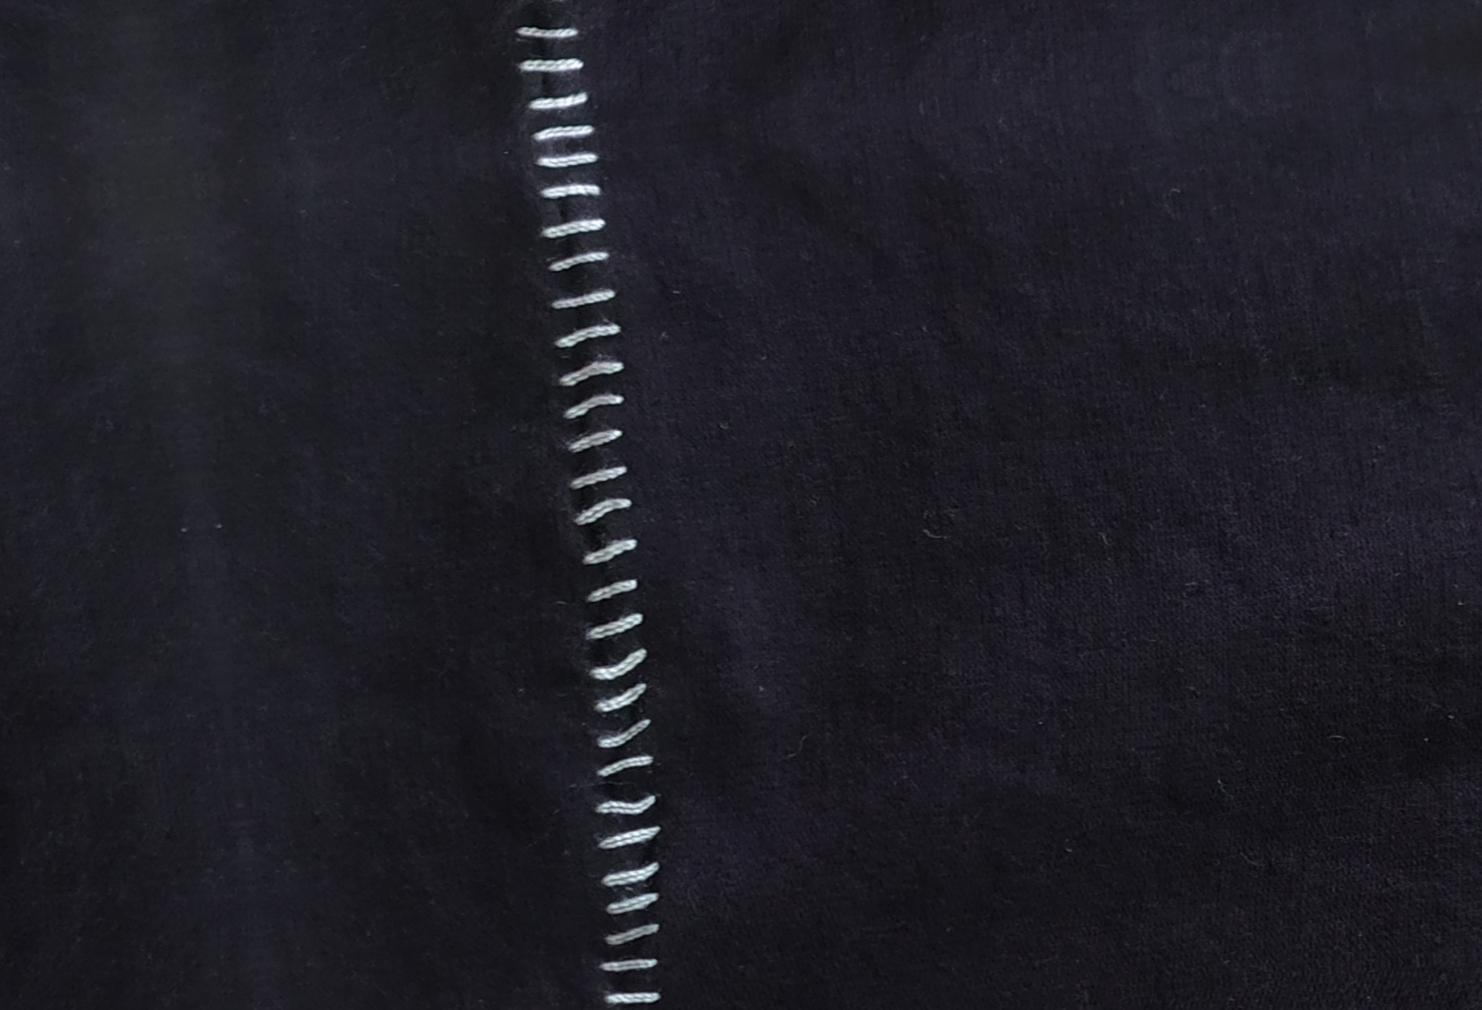slub: (515, 10, 670, 1002)
